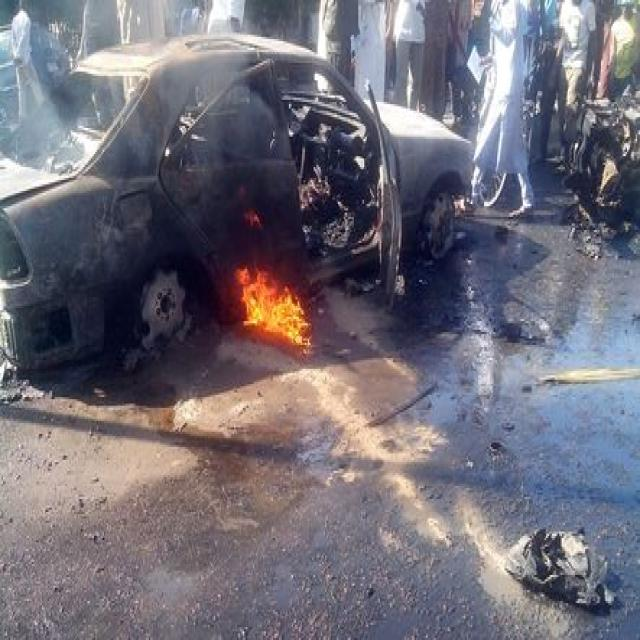fire: (236, 267, 310, 349)
